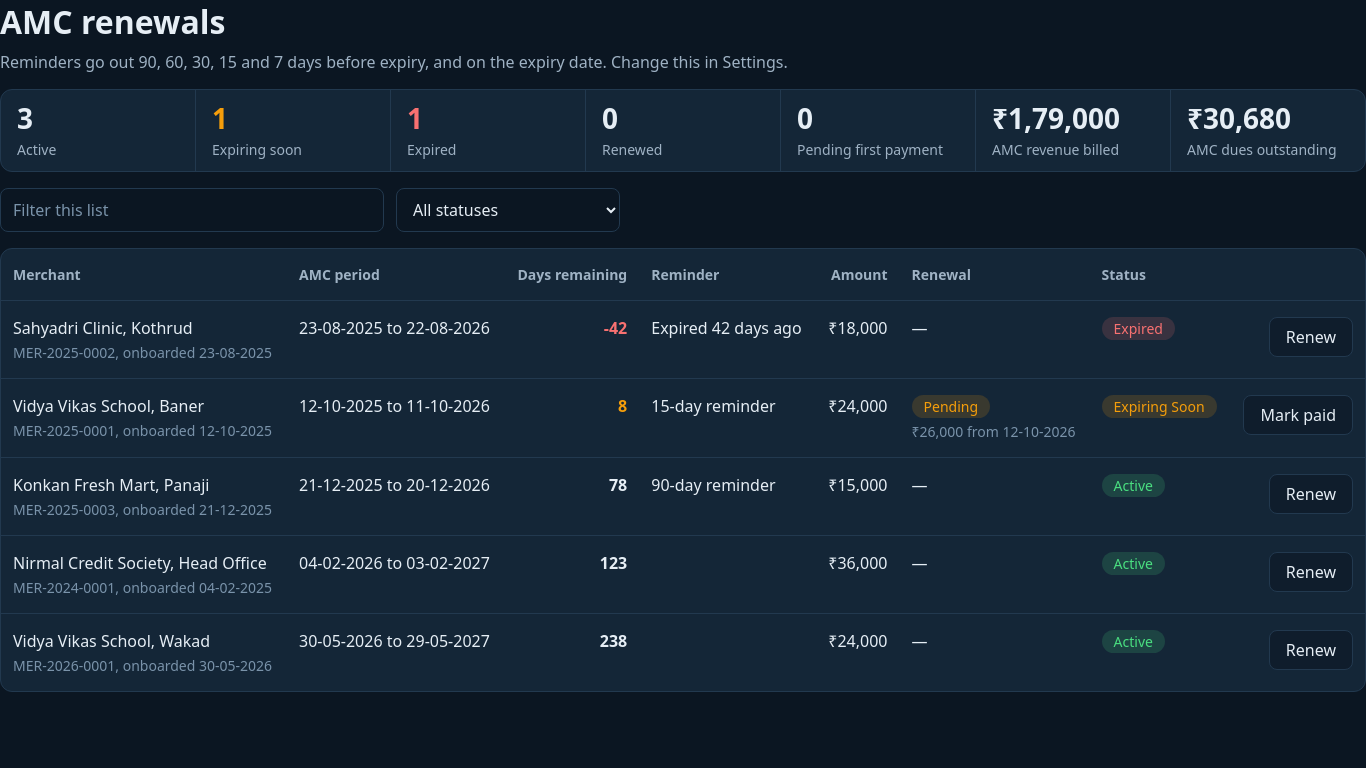
Test: Merchant detail panel › puts an outlet on hold, which blocks renewal and quotations
The image size is (1366, 768).
Click the button "Konkan Fresh Mart, Panaji": (111, 485) [13,474,210,496]
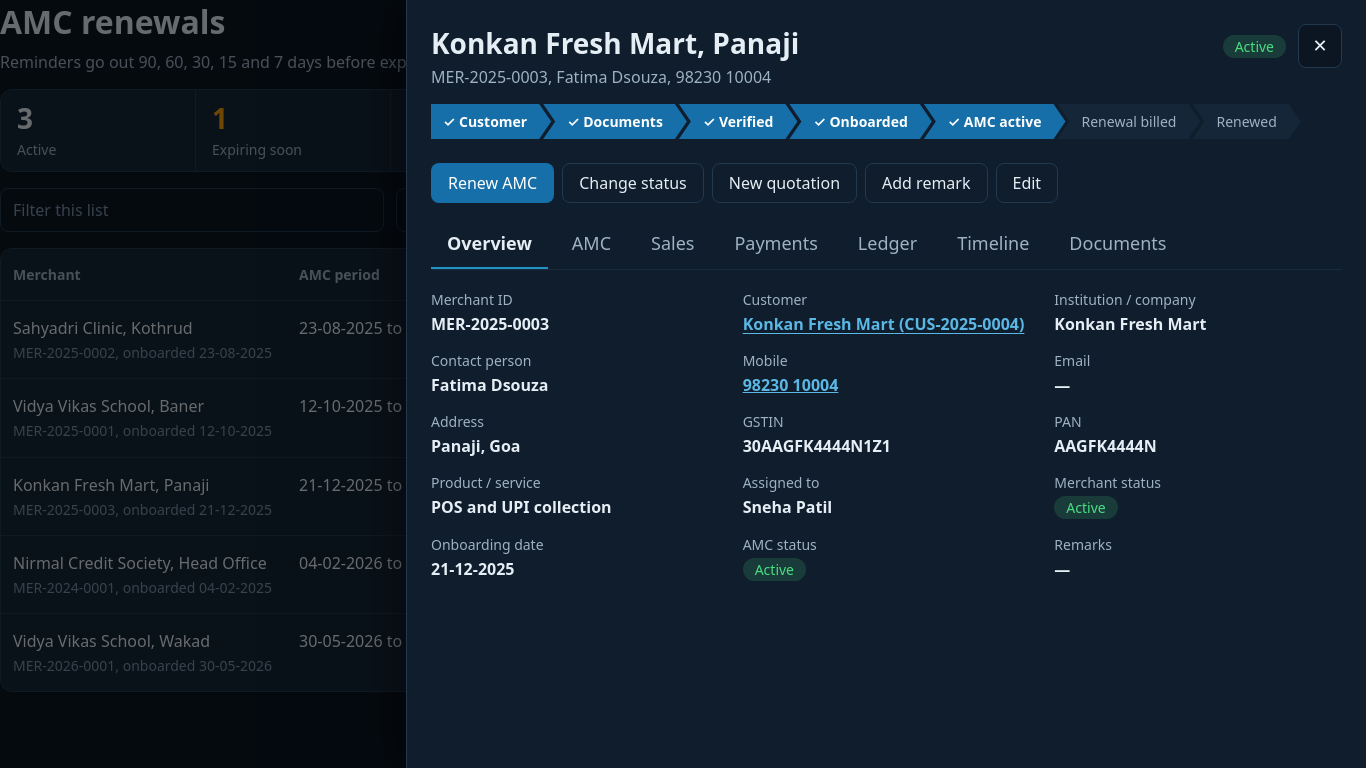
Click the button "New quotation": (784, 183) [712,163,857,203]
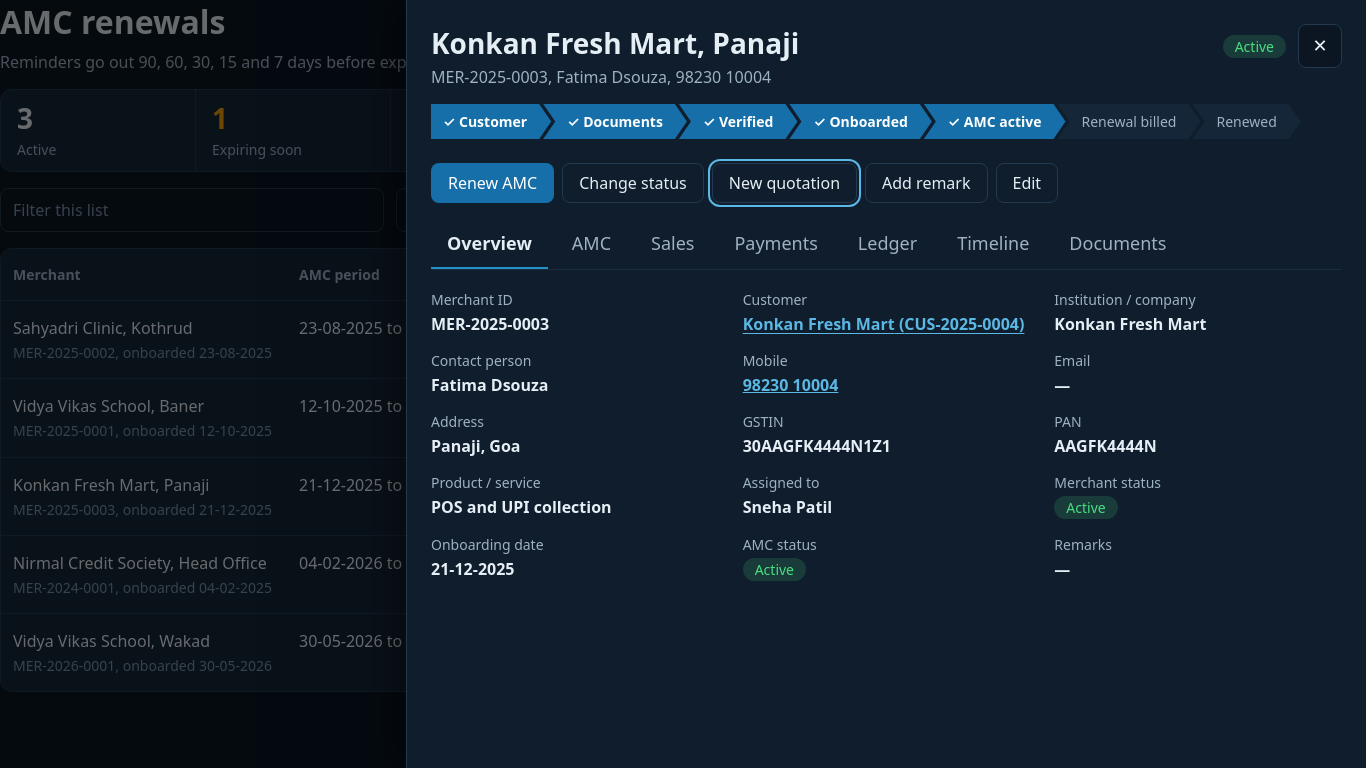
Click the button "Change status": (633, 183) [562,163,704,203]
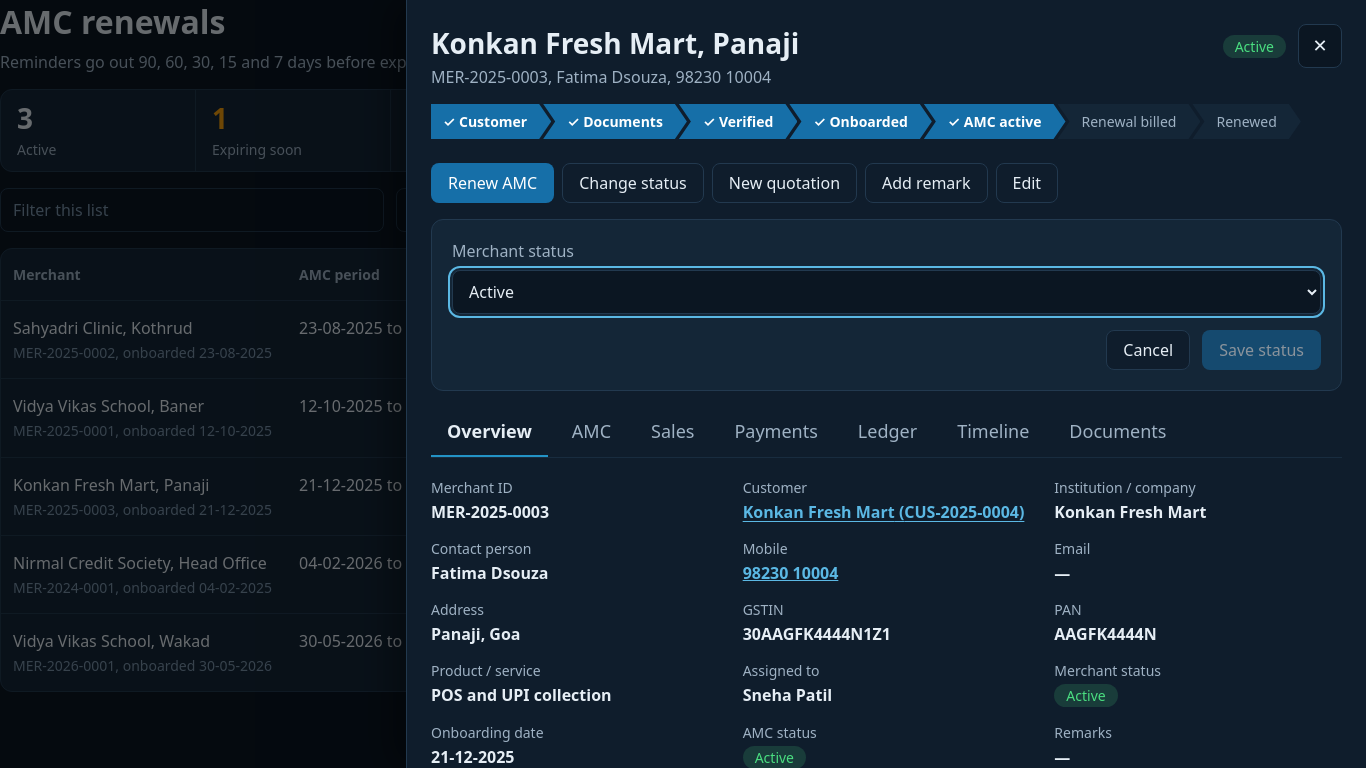
Select "On hold" in the dropdown labelled "Merchant status": (886, 292) [452,270,1321,314]
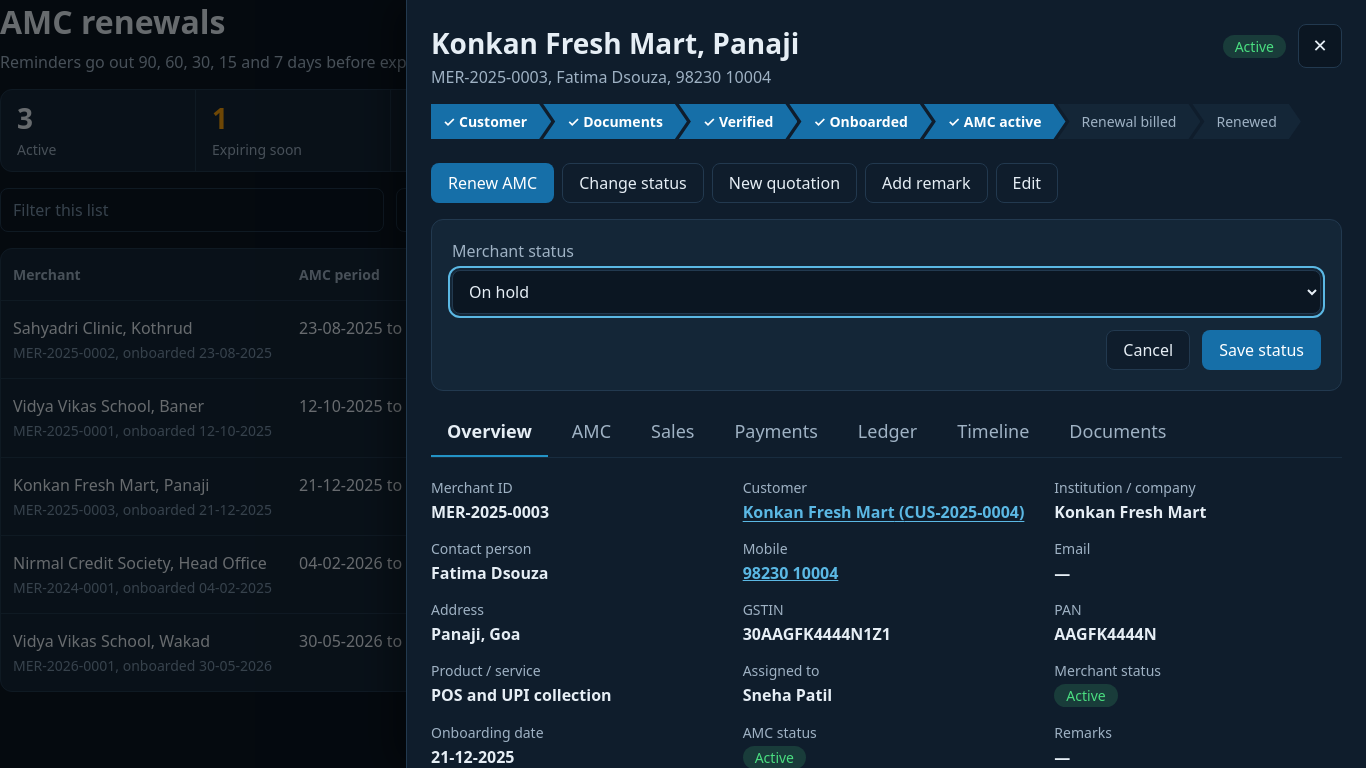
Click the button "Save status": (1262, 350) [1202,330,1321,370]
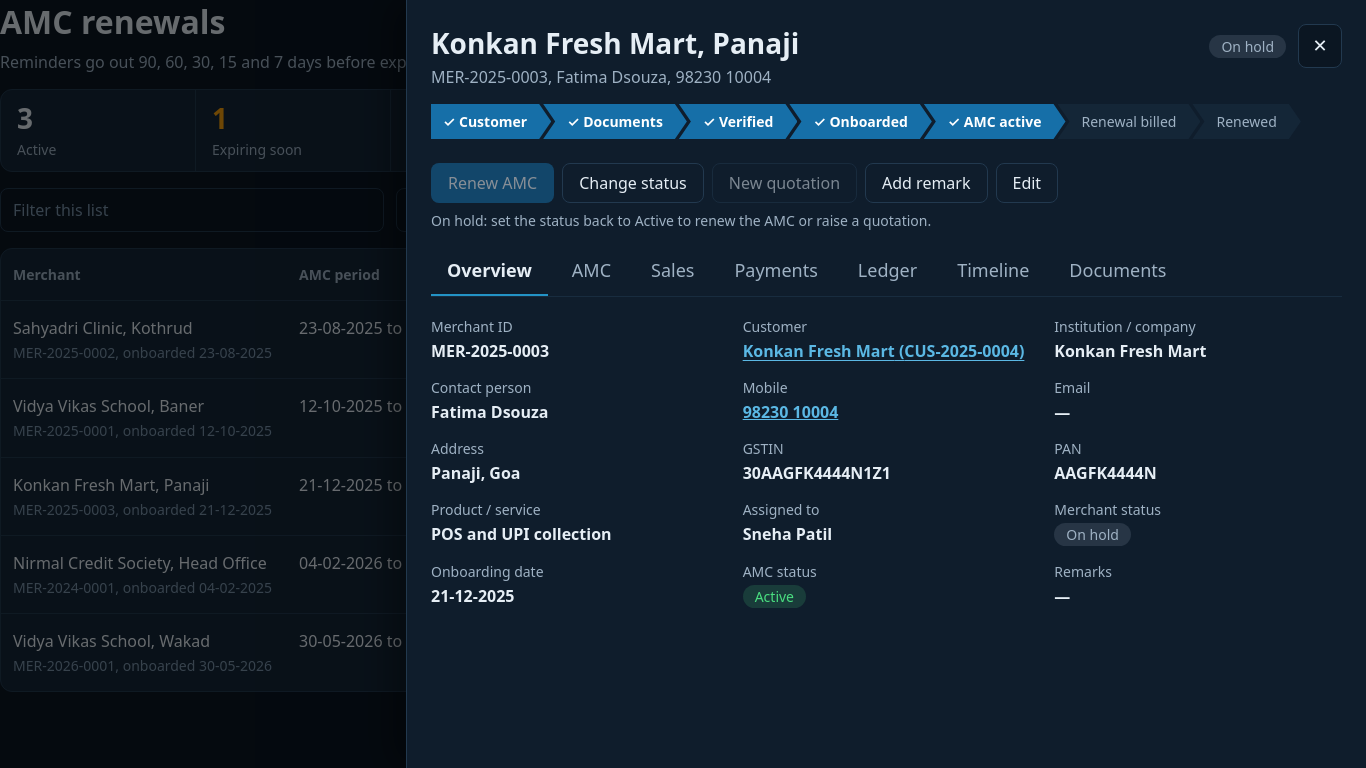
Check: the button "Renew AMC" is disabled, box [431,163,554,203]
Check: the button "New quotation" is disabled, box [712,163,857,203]
Click the tab "Timeline": (993, 271) [941,246,1045,296]
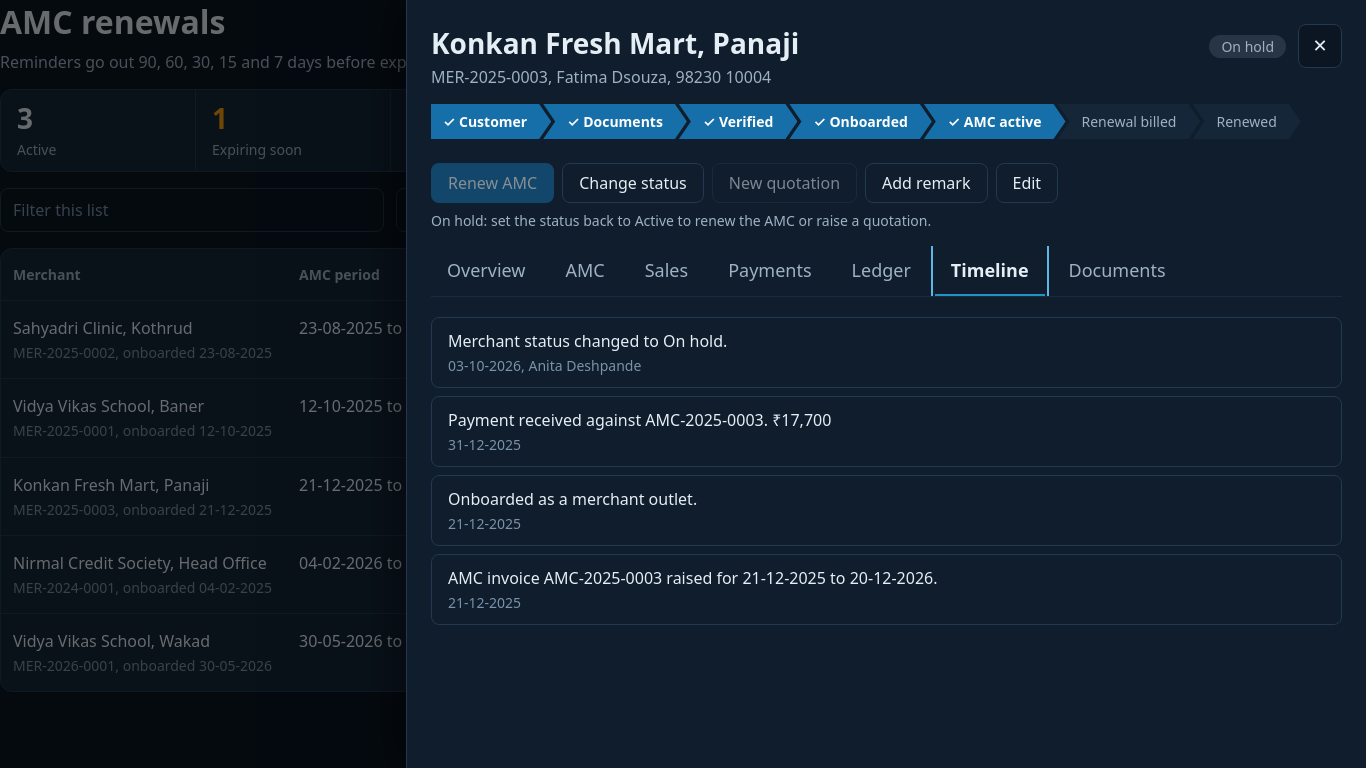
Check: the list item that starts with "Merchant status changed to On hold." is shown, box [448,330,727,352]
